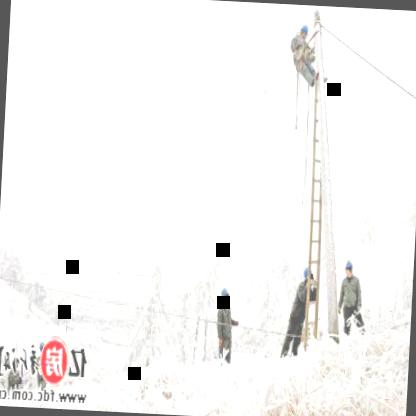helmet: (300, 266, 314, 291), (218, 286, 232, 306), (300, 21, 310, 46), (344, 256, 355, 278)
